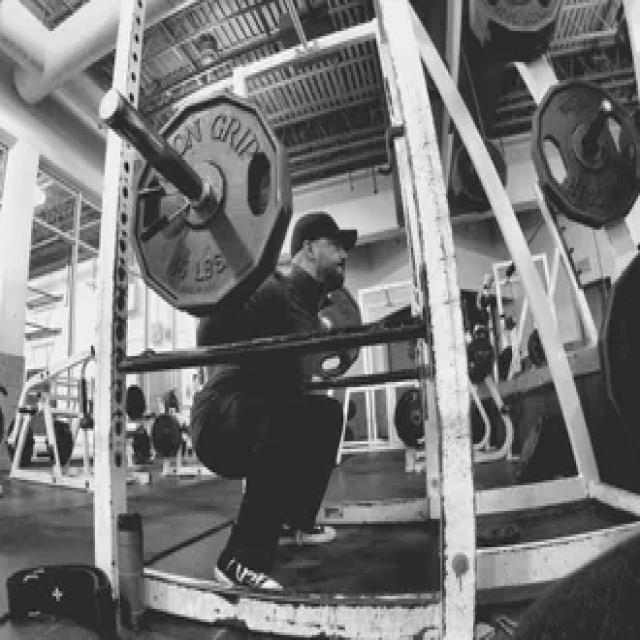cap: (289, 214, 357, 292)
